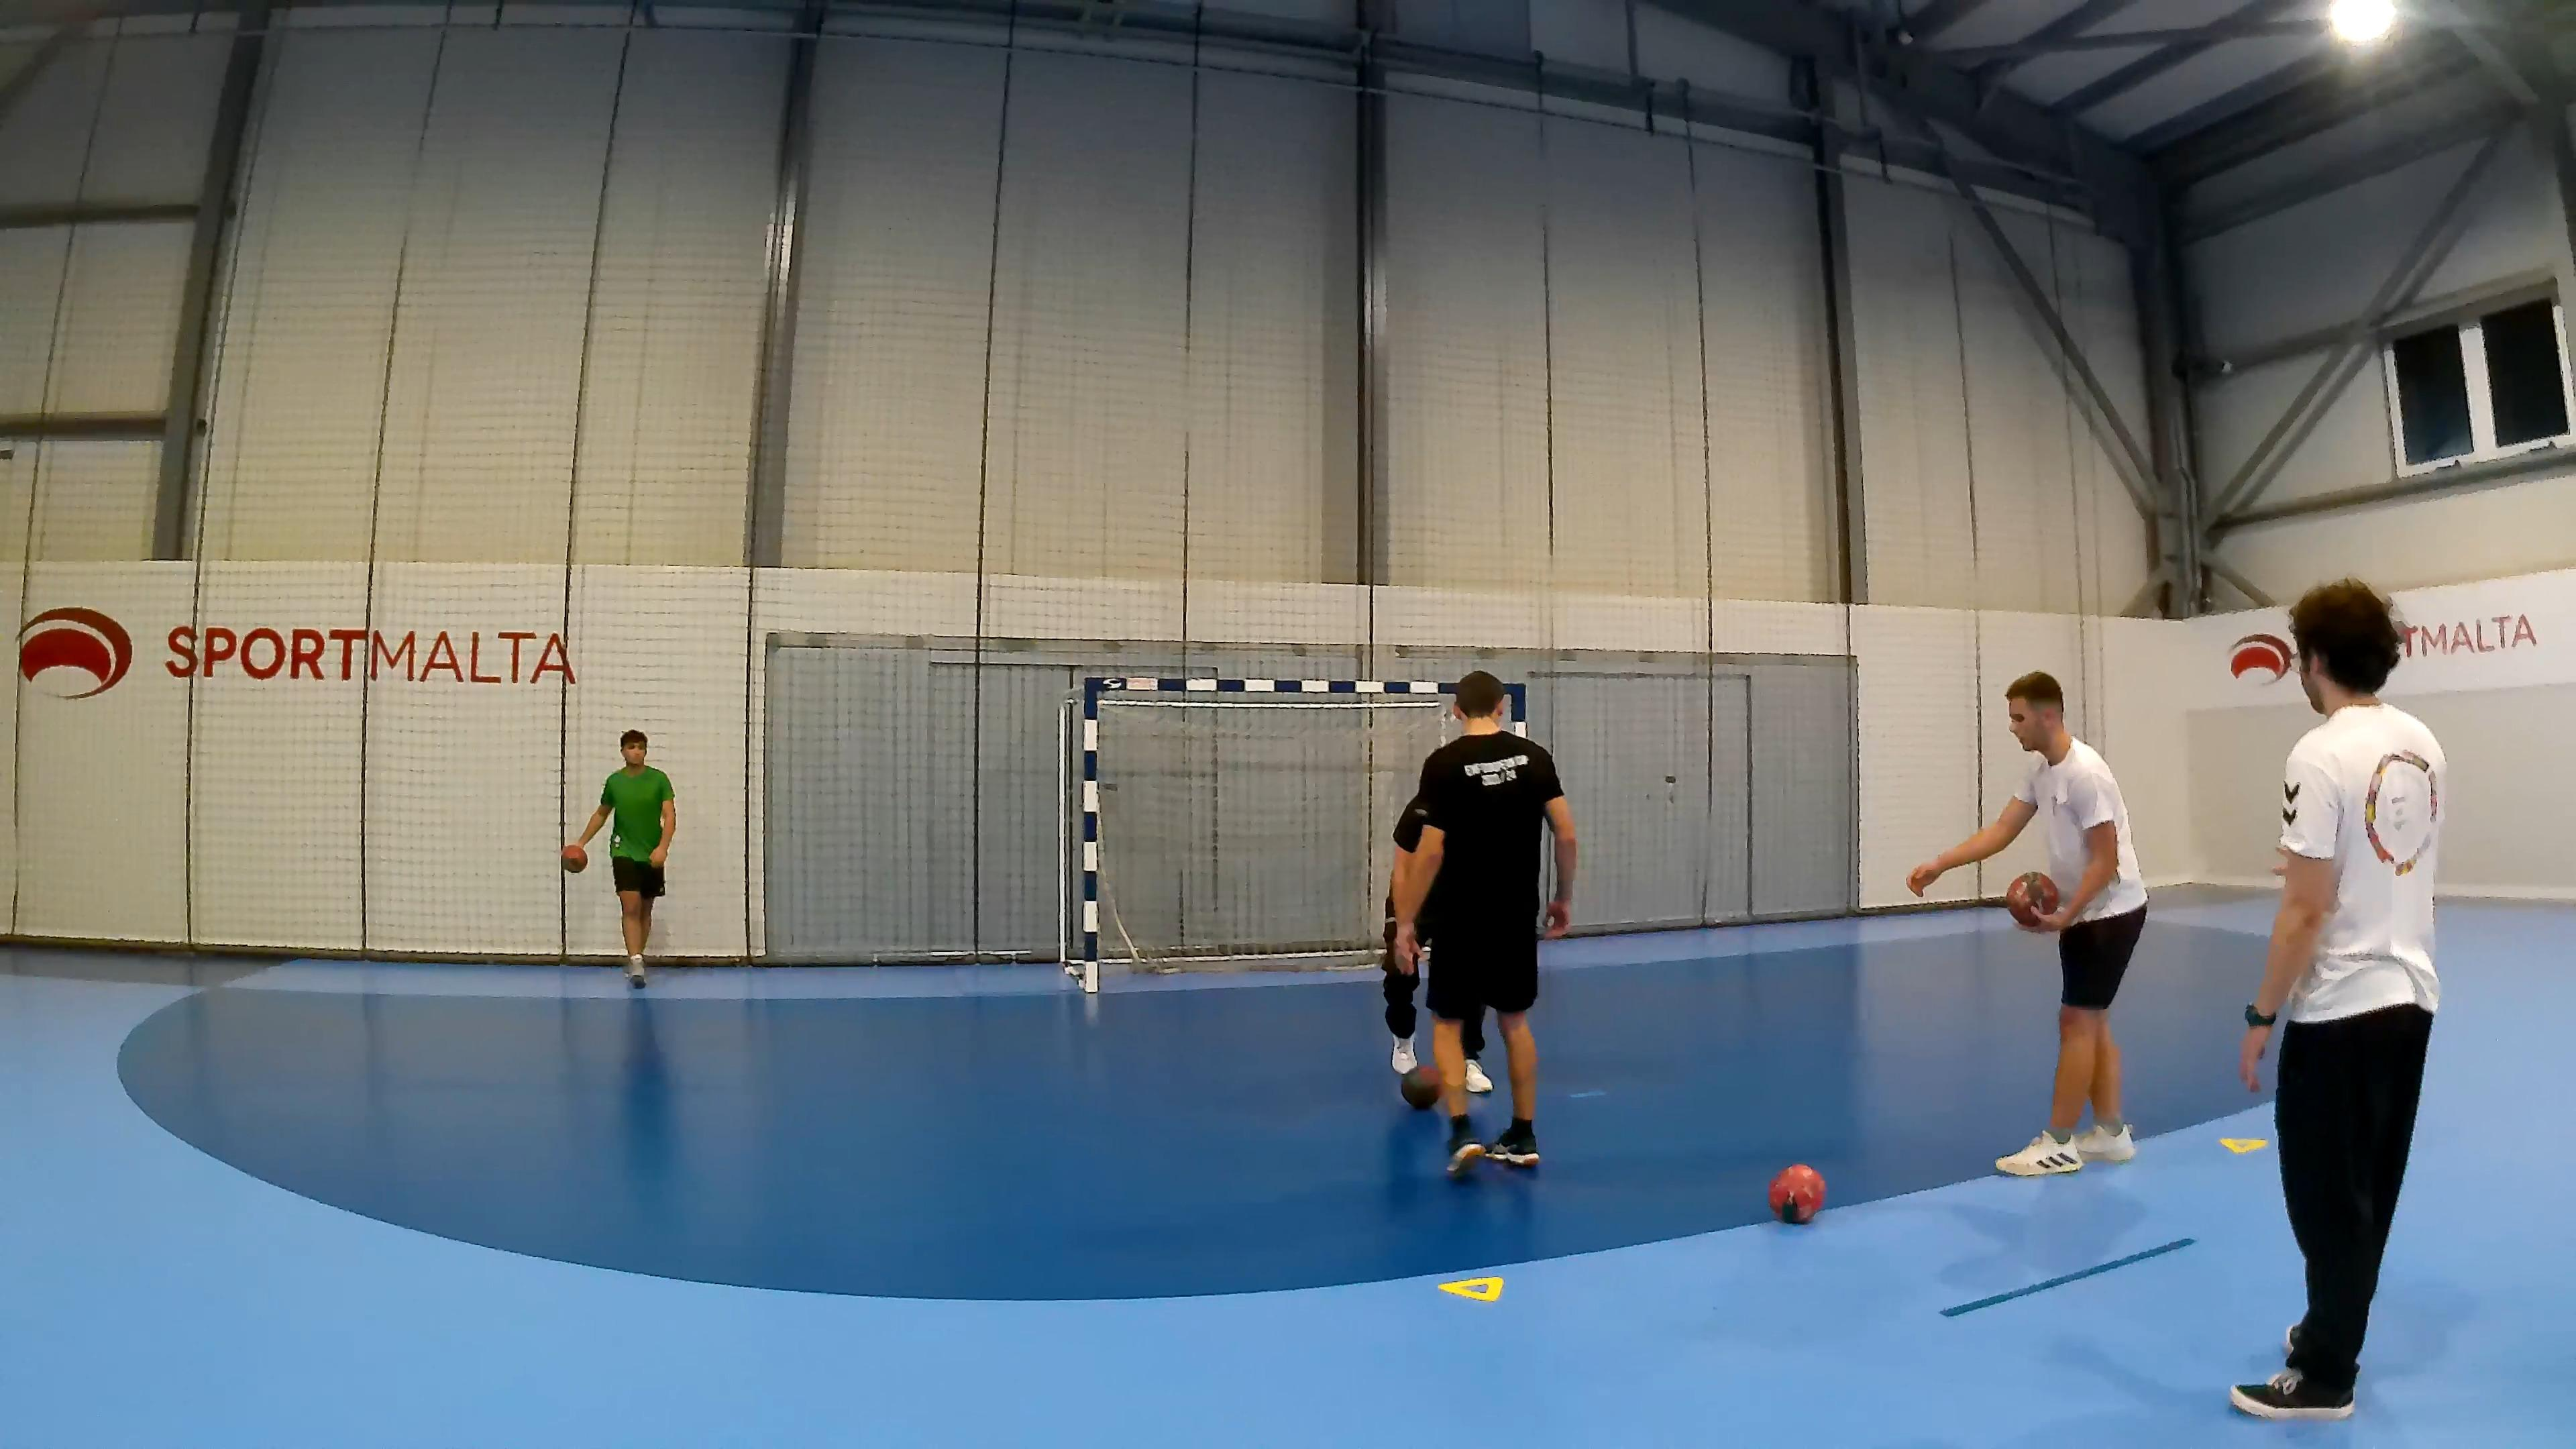handball: (1766, 1162, 1826, 1224), (2005, 870, 2059, 924), (561, 844, 586, 872)
